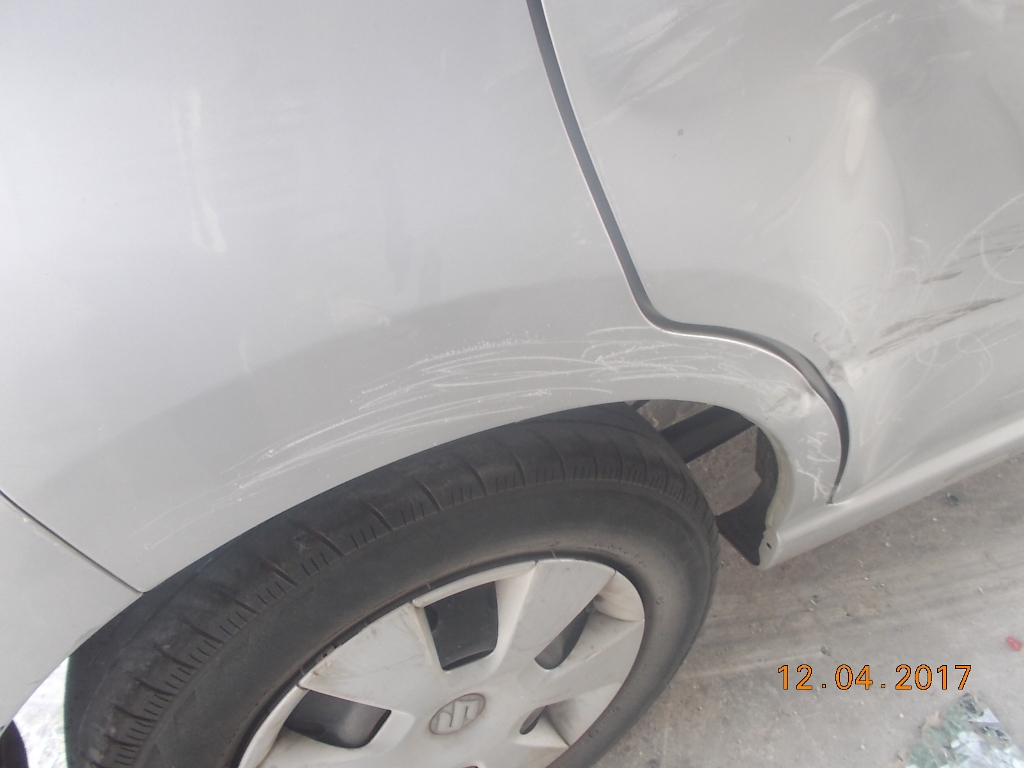Scratch_or_spot: (255, 330, 573, 420), (579, 325, 654, 389), (664, 334, 741, 387), (792, 389, 827, 484)
